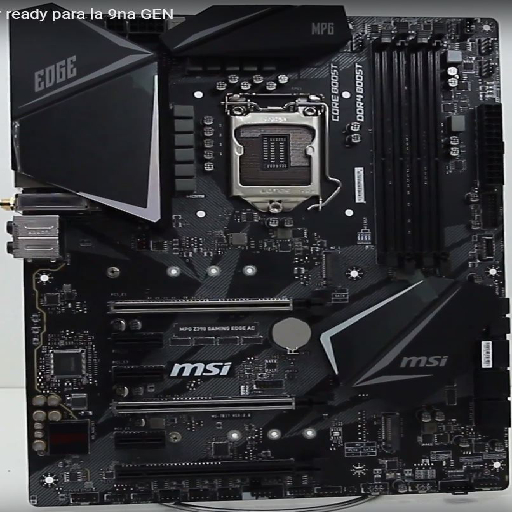CPU: (222, 93, 328, 220)
GPU: (111, 391, 330, 417), (112, 455, 328, 481), (108, 295, 330, 319)
MOTHERBOARD: (11, 9, 512, 495)
RAM: (369, 25, 456, 274)
SSD: (377, 412, 402, 452), (316, 246, 339, 284)
